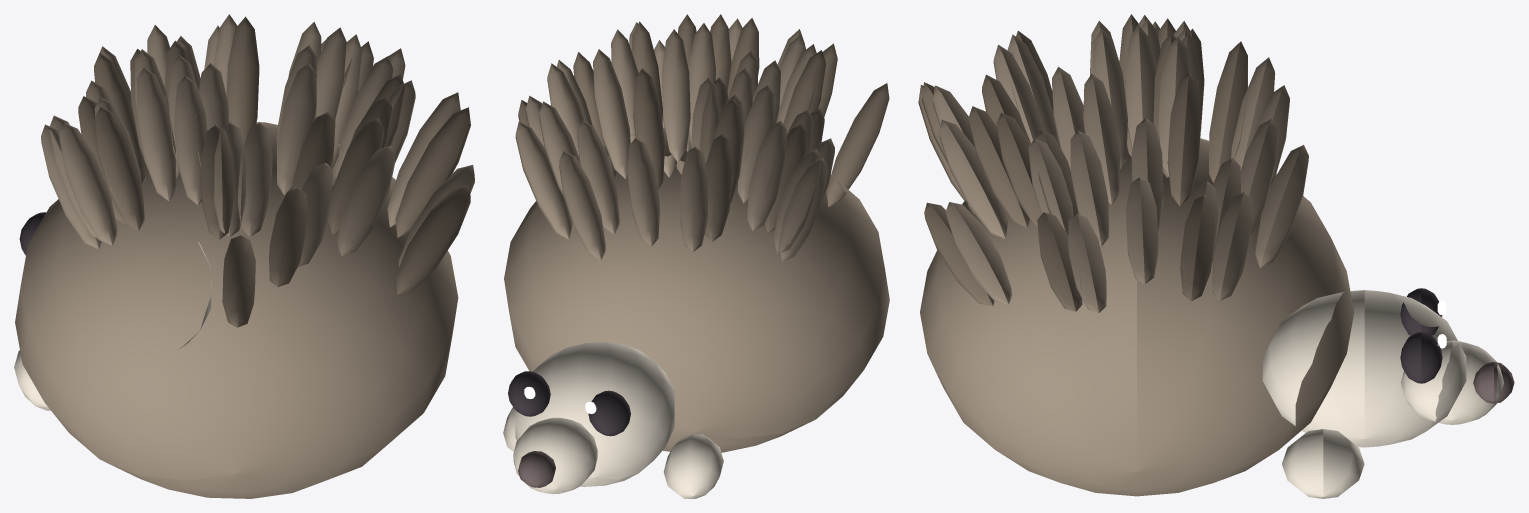
Rendered from ally_hedgehog.glb.
3 views of the same model, side by side, from view 1: azimuth 30°, elevation 25°; view 2: azimuth 150°, elevation 25°; view 3: azimuth 270°, elevation 25° (orthographic). The views are drawn at different scales.
Visible parts, largest first — view 1: chinchilla; view 2: chinchilla; view 3: chinchilla.
Part boxes in pixels (<box>): chinchilla: <box>14,14,474,498</box>; chinchilla: <box>503,14,889,498</box>; chinchilla: <box>918,14,1514,498</box>.
Bounding box in the file's own units: 0.42 × 0.4512 × 0.5764.
